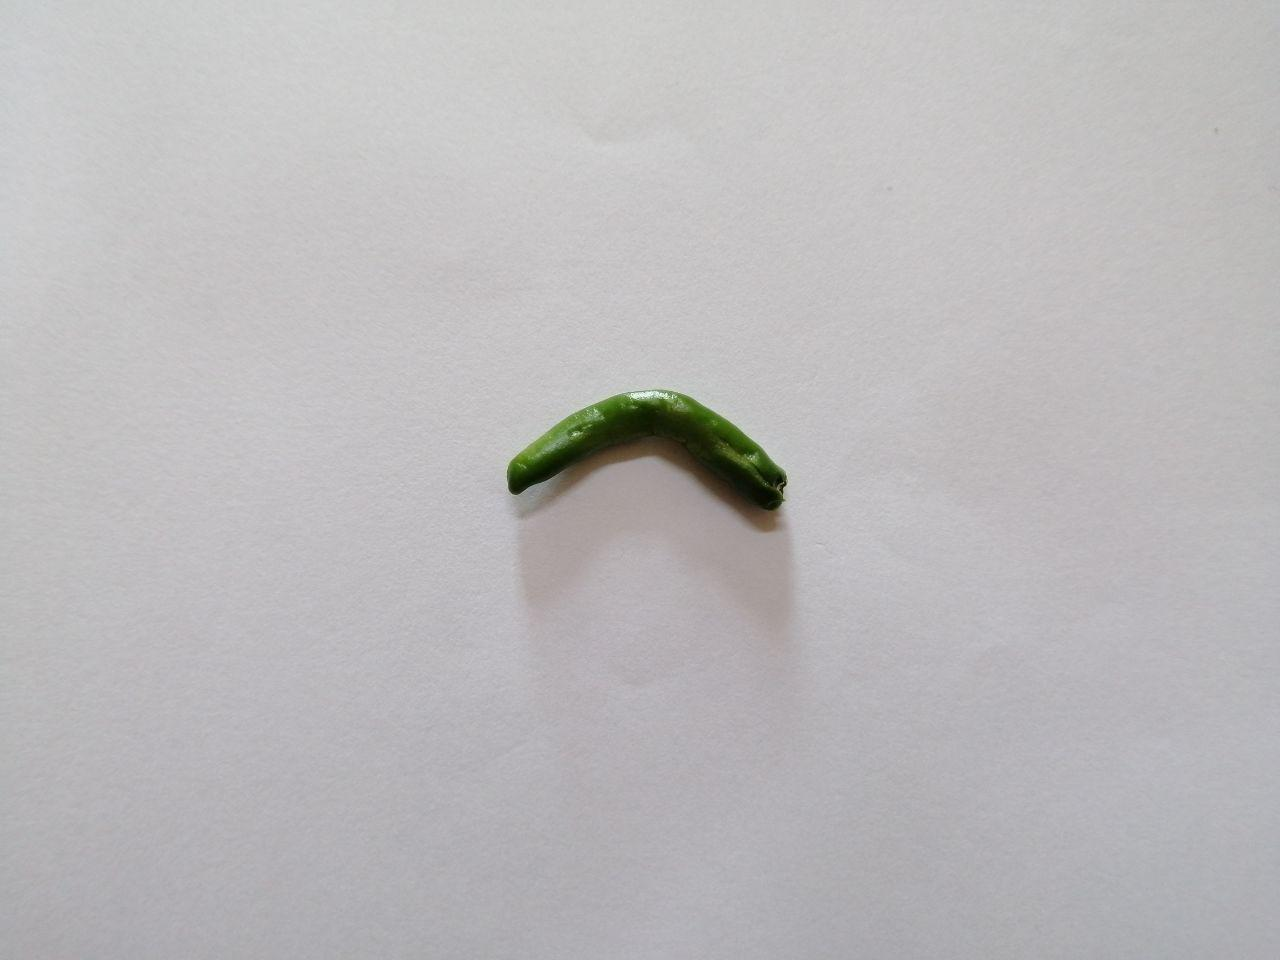lada hijau: (477, 361, 828, 555)
